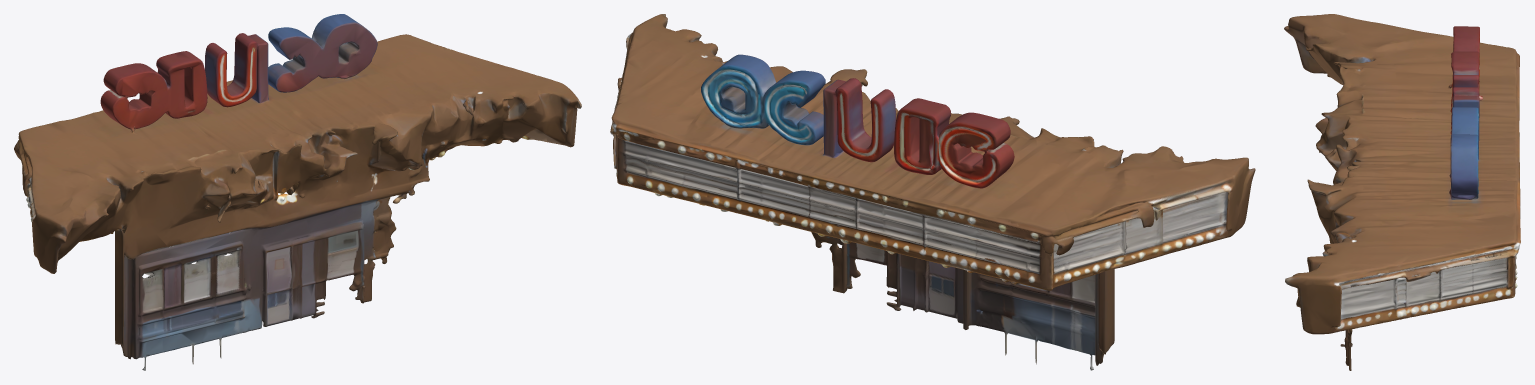
File: building-talkshow.glb
The picture shows the model from 3 angles, left to right: view 1: azimuth 30°, elevation 25°; view 2: azimuth 150°, elevation 25°; view 3: azimuth 270°, elevation 25°; orthographic projection. The views are drawn at different scales.
Visible parts, largest first — view 1: tripo_node_f4ca6b10-48aa-4ba3-b625-d7a9b85e28a6; view 2: tripo_node_f4ca6b10-48aa-4ba3-b625-d7a9b85e28a6; view 3: tripo_node_f4ca6b10-48aa-4ba3-b625-d7a9b85e28a6.
Boxes of the visible parts, left/top/right/bottom form: tripo_node_f4ca6b10-48aa-4ba3-b625-d7a9b85e28a6: left=14, top=14, right=581, bottom=370; tripo_node_f4ca6b10-48aa-4ba3-b625-d7a9b85e28a6: left=610, top=14, right=1255, bottom=370; tripo_node_f4ca6b10-48aa-4ba3-b625-d7a9b85e28a6: left=1284, top=14, right=1520, bottom=370.
Bounding box in the file's own units: 21.28 × 10 × 7.93.
Materials: 1 (1 with a texture image).
